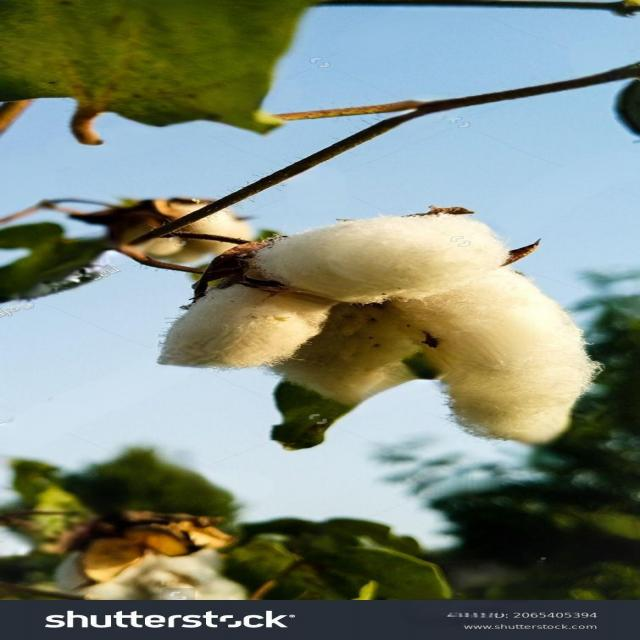Leaf: (148, 195, 604, 452)
